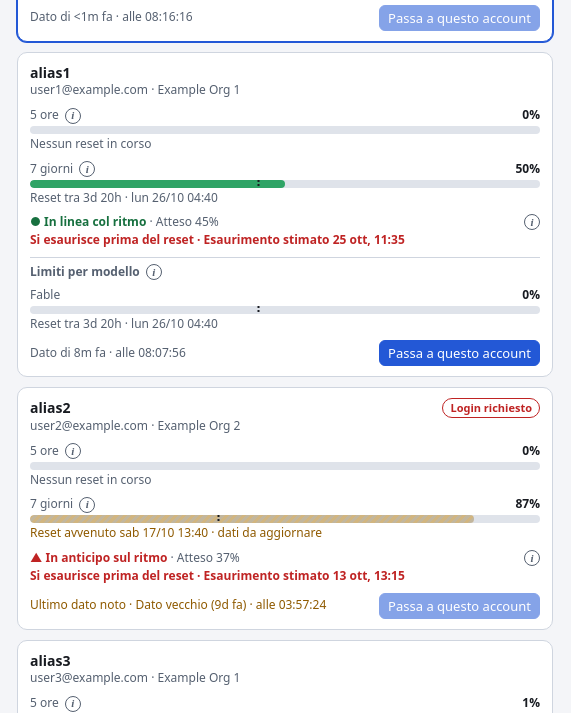
it: Dashboard: cambio account › «Passa a questo account» cambia l’attivo e avvisa
(page scrolled)
Click the button "Passa a questo account" below "user1@example.com": (460, 353) left=379, top=340, right=540, bottom=366
(page scrolled)
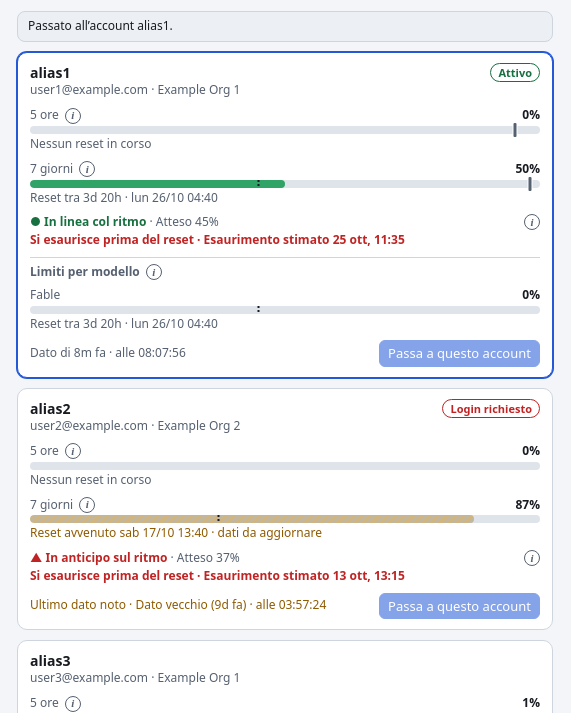
Expected: the text "alias1" is shown, left=30, top=63, right=70, bottom=82
Expected: the text "Passato all’account alias1." is shown, left=17, top=11, right=553, bottom=42
